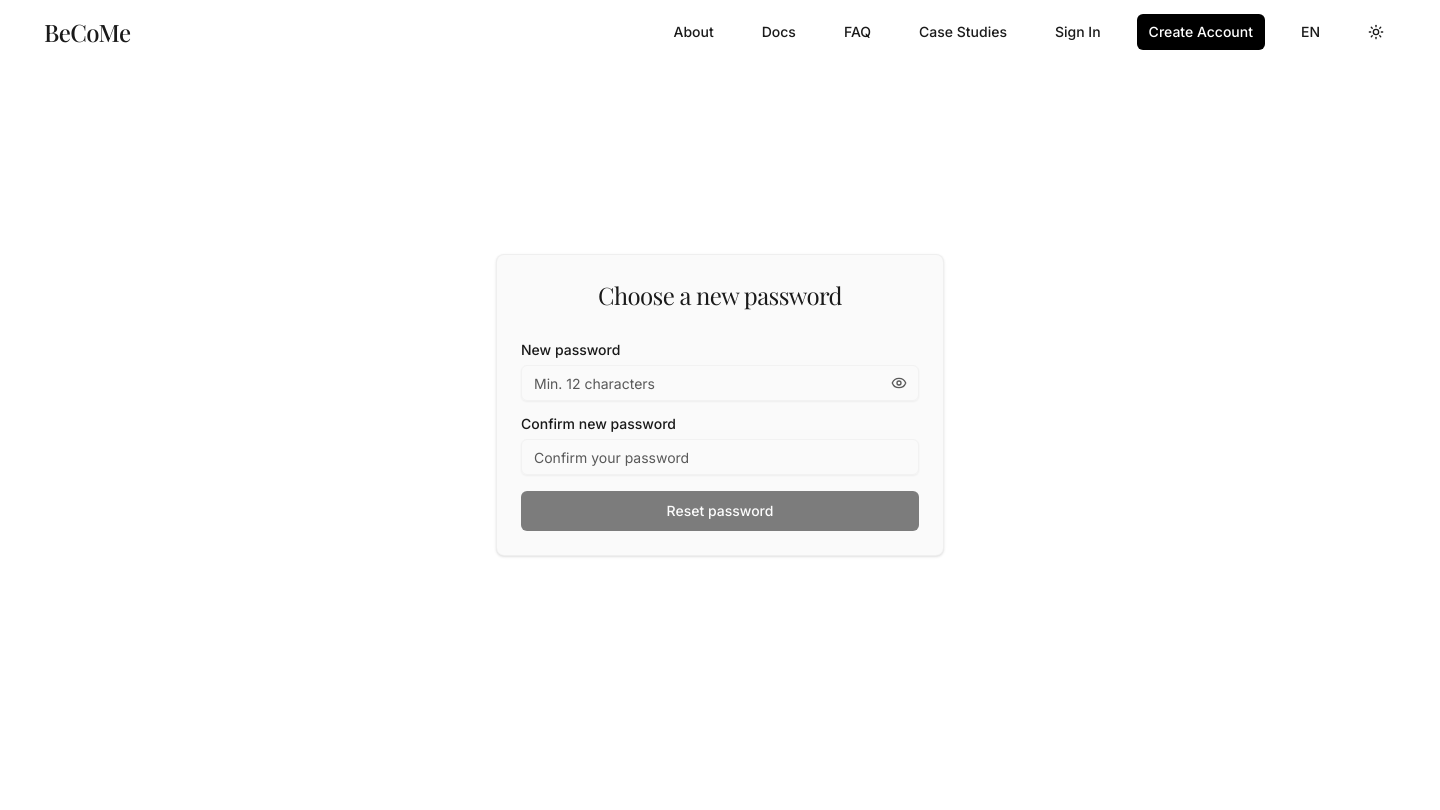
Test case: ResetPassword › shows the password requirements checklist when typing
Type "test" into the password field with placeholder "Min. 12 characters". click: (720, 383)
box: [521,365,919,401]
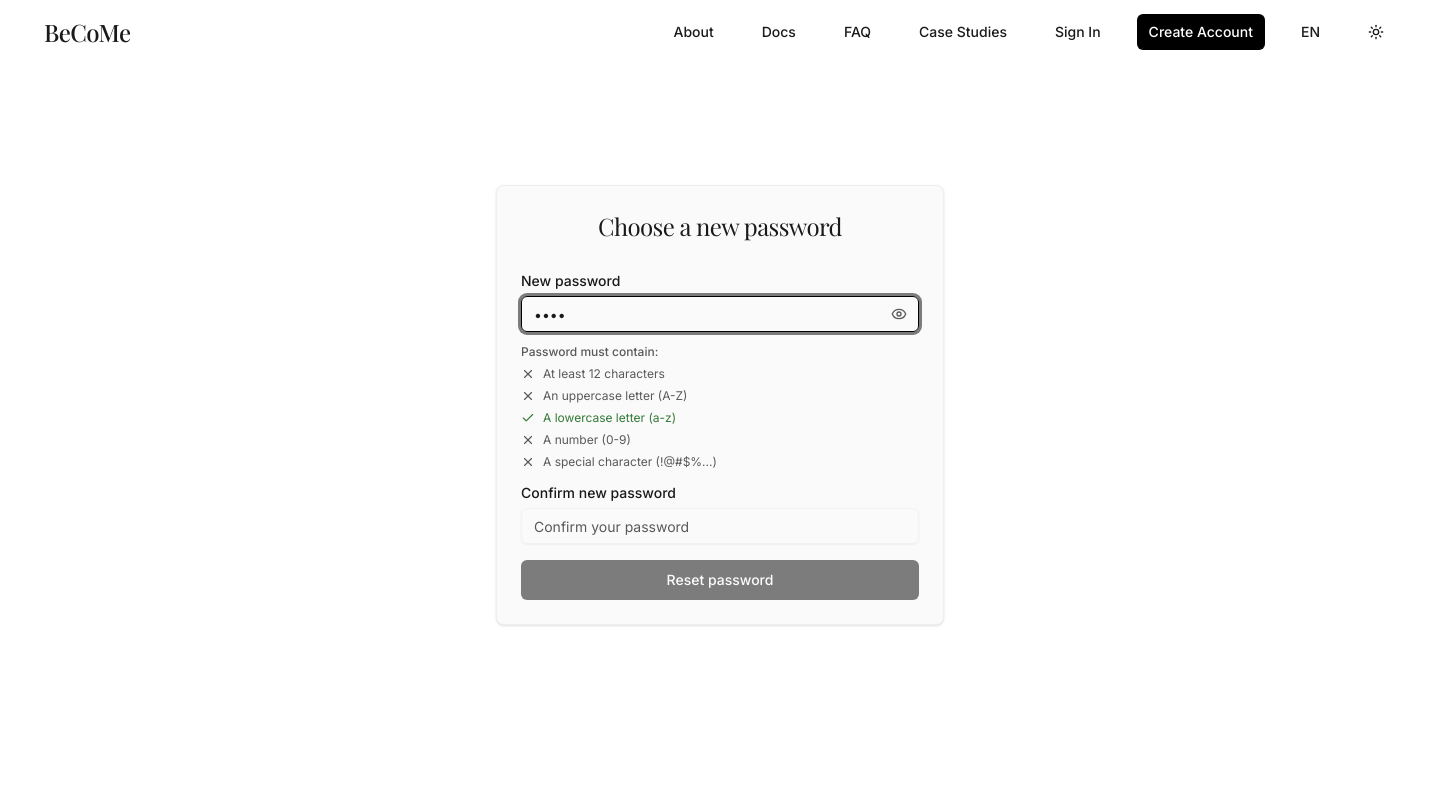
Now the text "At least 12 characters" is shown, box [543,366,665,382]
Now the text "An uppercase letter (A-Z)" is shown, box [543,388,688,404]
